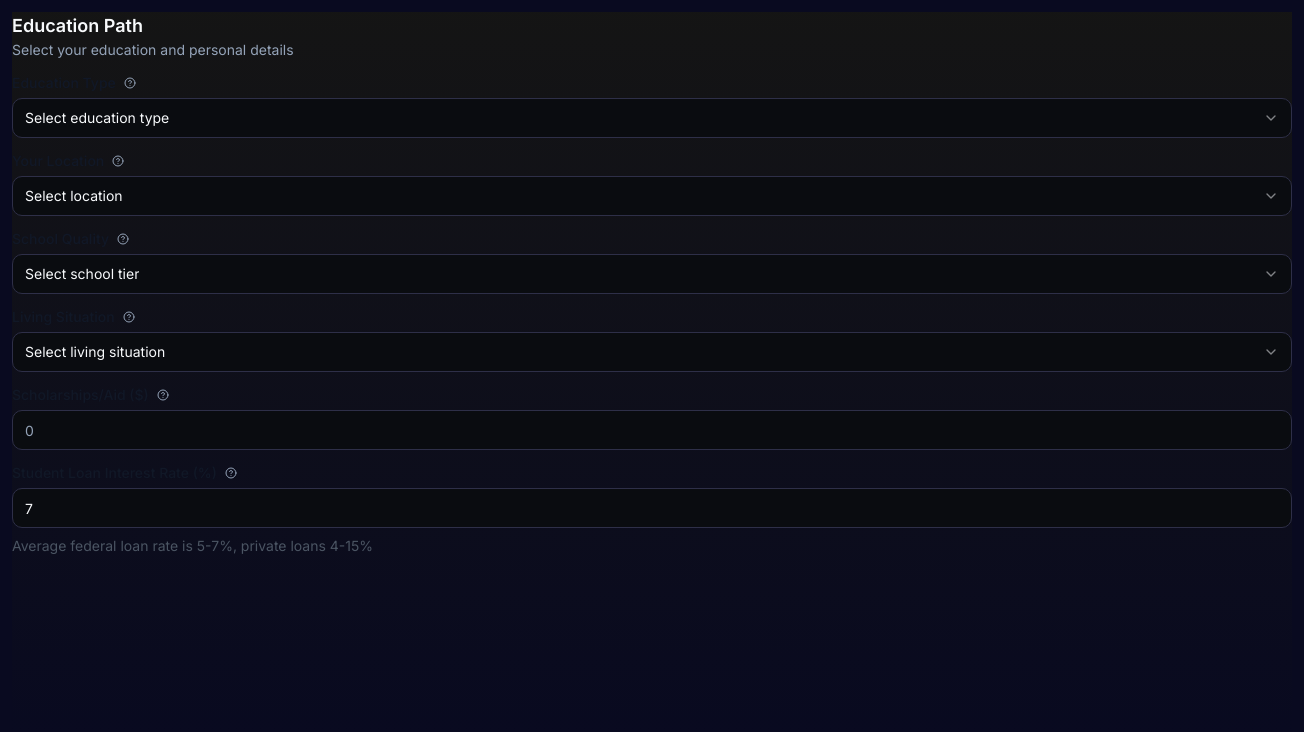
Test: PathBuilder Component › Location Selection › should display formatted location names
Click the dropdown "Select location" at (74, 196), box [12,176,1292,216]
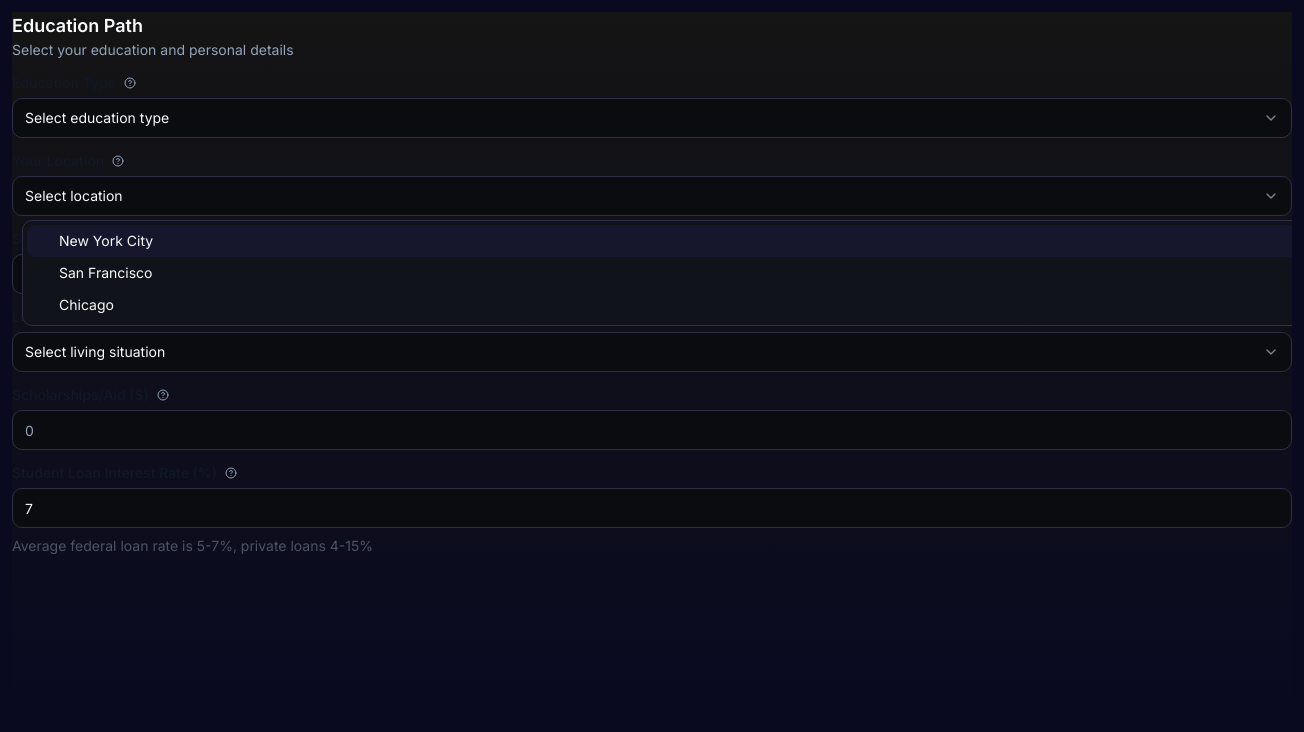
Check: the text "New York City" is shown, box [59,231,153,251]
Check: the text "San Francisco" is shown, box [59,263,152,283]
Check: the text "Chicago" is shown, box [59,295,114,315]
